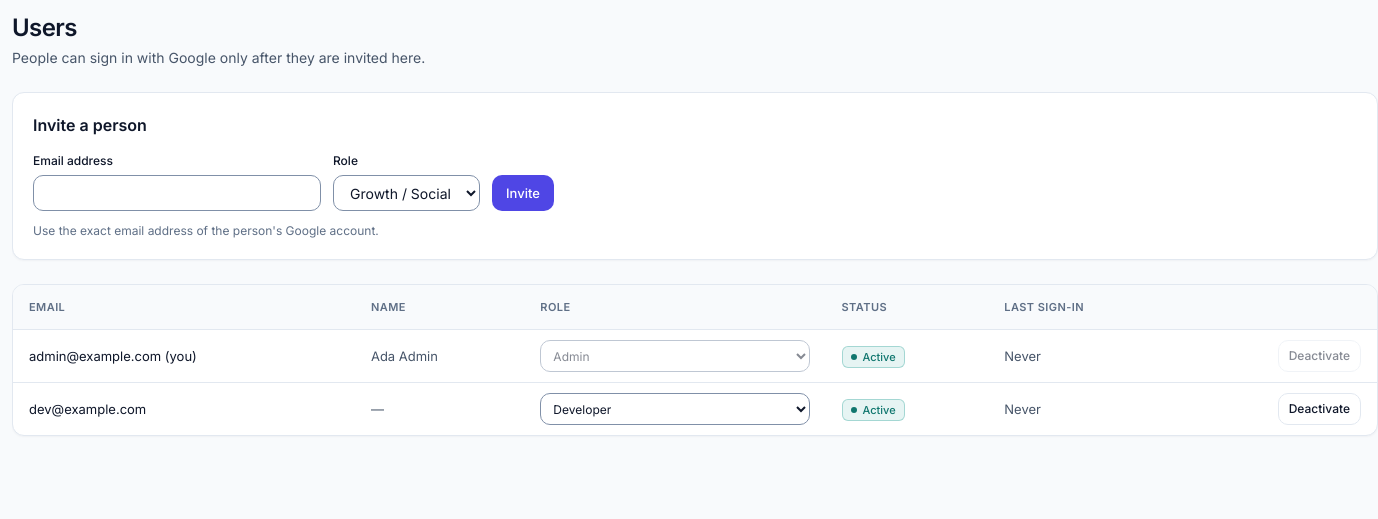
UsersPage › clears an earlier error once the next action starts
The width and height of the screenshot is (1378, 519).
expect the text "dev@example.com" is shown: met, box [13,382,355,435]
Step 1. Type "dev@example.com" into the field labelled "Email address" → (177, 193), box [33,175,321,211]
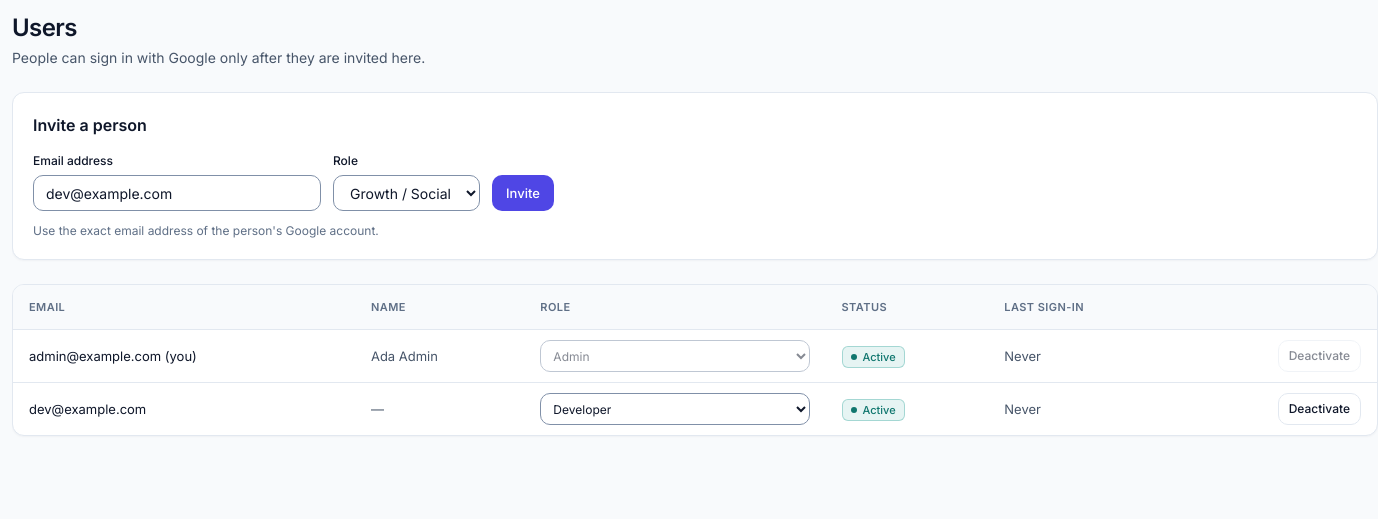
Step 2. Click the button "Invite" → (523, 193), box [492,175,554,211]
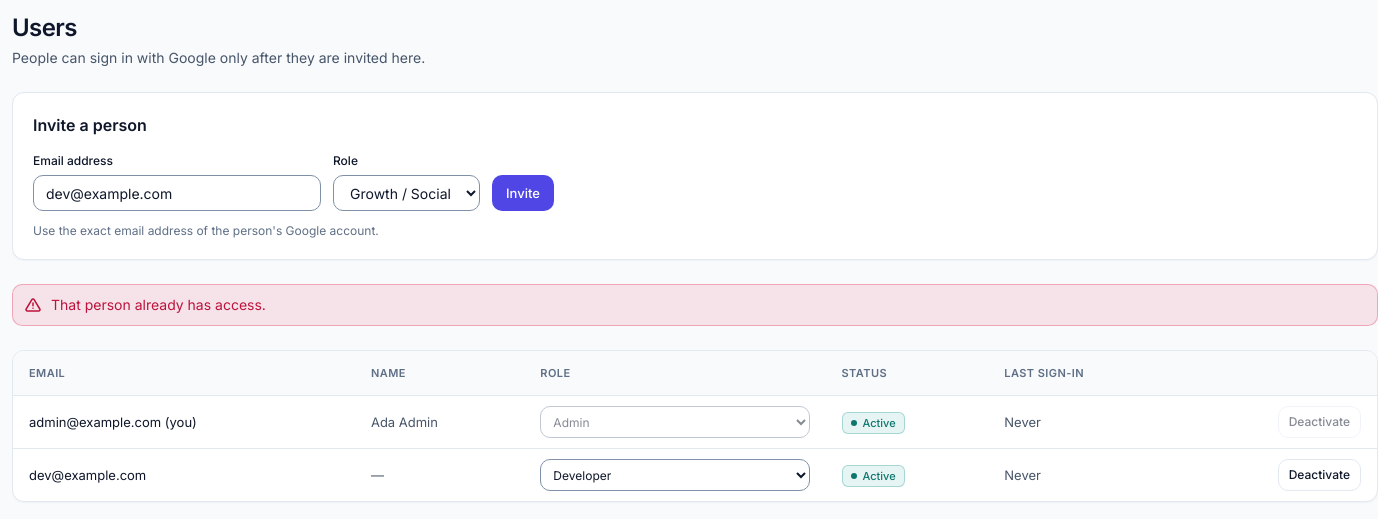
expect the message "That person already has access." is shown: met, box [12,284,1377,326]
Step 3. Select "Growth / Social" in the dropdown named "Role for dev@example.com" → (675, 475), box [540,459,810,491]
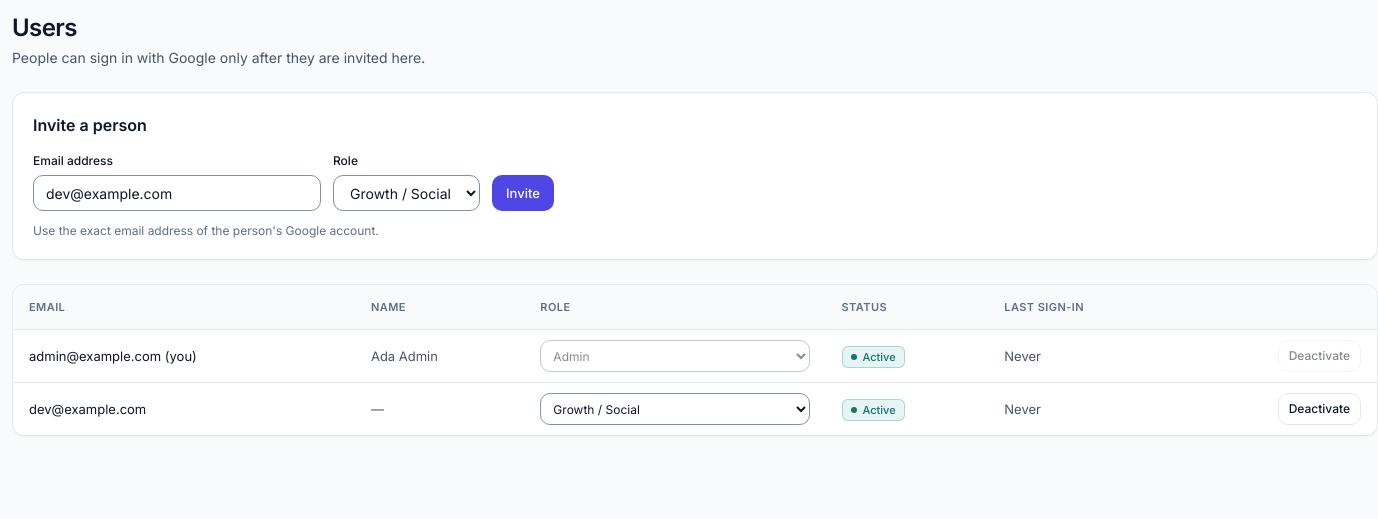
expect the message "That person already has access." is gone: met
